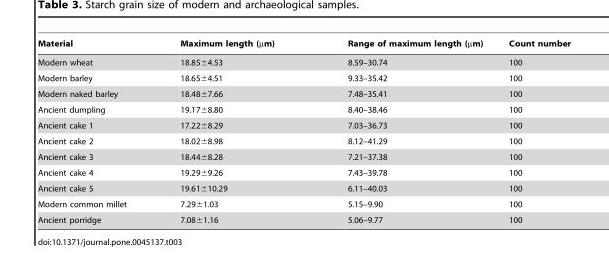table: (37, 37, 570, 224)
table column: (310, 37, 495, 224), (152, 37, 310, 224), (37, 37, 152, 224), (495, 37, 570, 224)
table column header: (37, 37, 570, 52)
table row: (37, 52, 570, 69), (37, 69, 570, 85), (37, 85, 570, 101), (37, 101, 570, 117), (37, 132, 570, 148), (37, 148, 570, 164), (37, 164, 570, 180), (37, 195, 570, 211), (37, 37, 570, 52), (37, 117, 570, 132), (37, 180, 570, 195), (37, 211, 570, 224)
